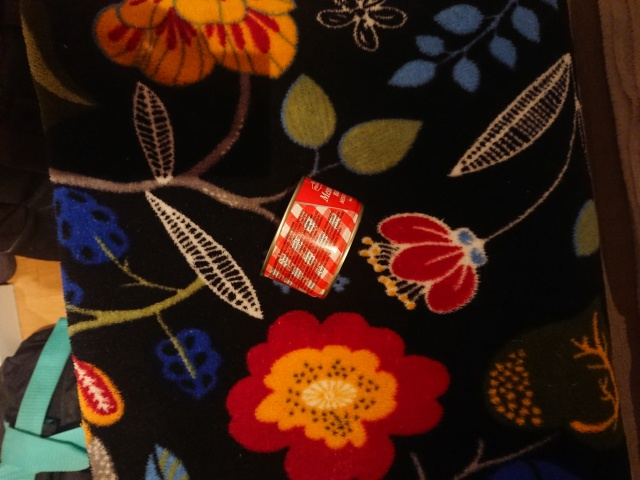Podravka Luncheon Meat 150g: (257, 172, 366, 303)
